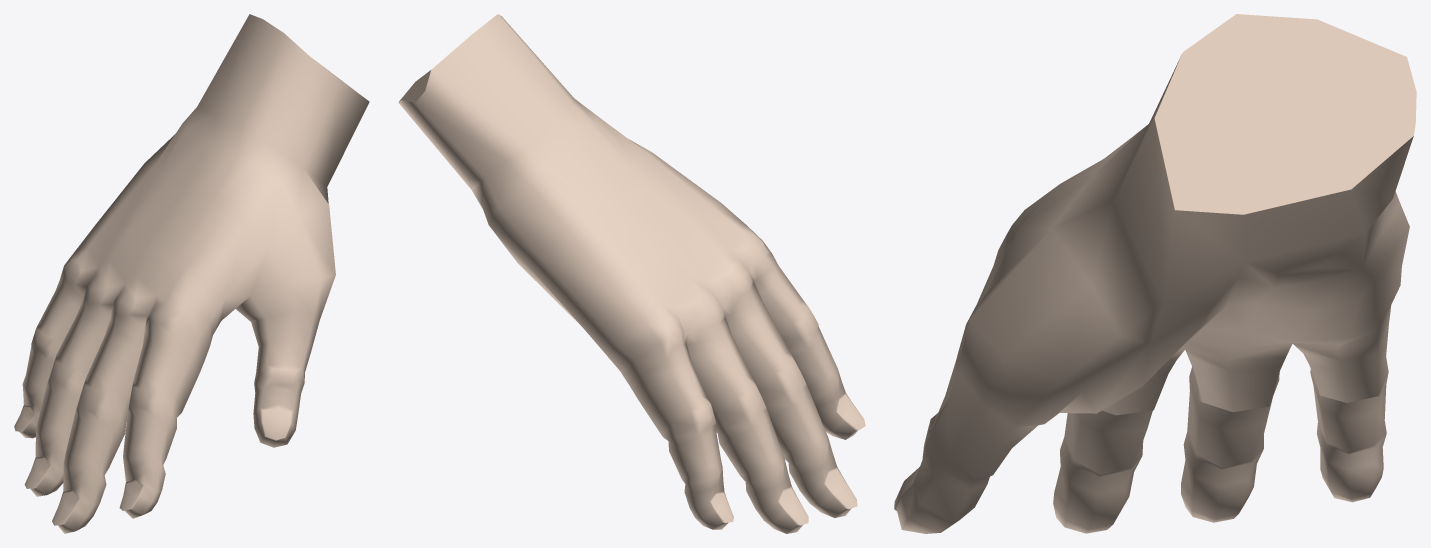
Rendered from RightHand.fbx.
The picture shows the model from 3 angles, left to right: view 1: azimuth 30°, elevation 25°; view 2: azimuth 150°, elevation 25°; view 3: azimuth 270°, elevation 25°; orthographic projection. The views are drawn at different scales.
Visible parts, largest first — view 1: polySurface3; view 2: polySurface3; view 3: polySurface3.
Boxes of the visible parts, box(x1,y1,x2,y2) form: polySurface3: box(14, 14, 369, 533); polySurface3: box(398, 14, 865, 533); polySurface3: box(894, 14, 1416, 533).
Bounding box in the file's own units: 0.2534 × 0.2871 × 0.182.
